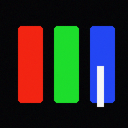4 line_v: (97, 66, 103, 106)
